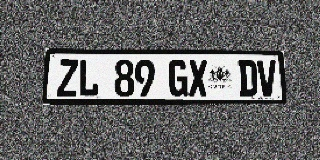8: (114, 60, 134, 97)
9: (135, 60, 155, 97)
D: (238, 60, 258, 96)
G: (168, 60, 188, 97)
L: (78, 59, 99, 97)
V: (257, 60, 277, 96)
X: (188, 60, 208, 96)
Z: (57, 59, 78, 97)
